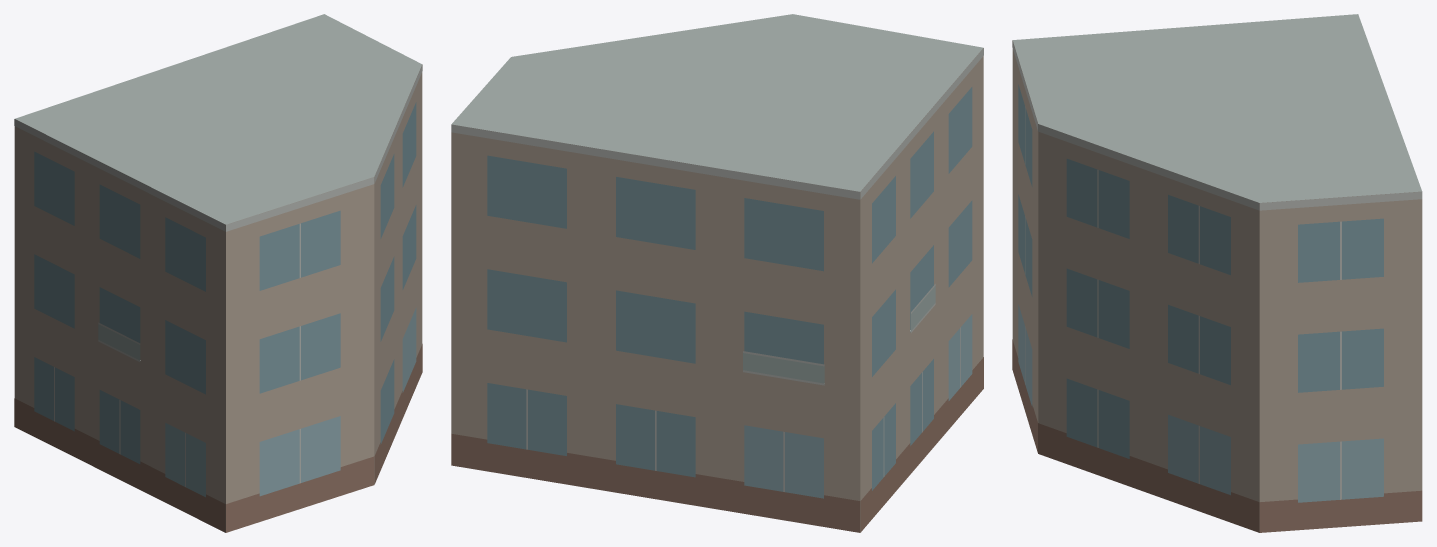
Rendered from survey-upis-32763730.glb.
3 renders of one model, left to right at view 1: azimuth 30°, elevation 25°; view 2: azimuth 150°, elevation 25°; view 3: azimuth 270°, elevation 25°, orthographic. The views are drawn at different scales.
Visible parts, largest first — view 1: survey-upis-32763730.tmp; view 2: survey-upis-32763730.tmp; view 3: survey-upis-32763730.tmp.
Boxes of the visible parts, x1,y1,x2,y2 form: survey-upis-32763730.tmp: [14, 14, 422, 532]; survey-upis-32763730.tmp: [451, 14, 983, 532]; survey-upis-32763730.tmp: [1012, 14, 1422, 532].
Size of the model in its own units: 12.91 by 10.5 by 11.83.
